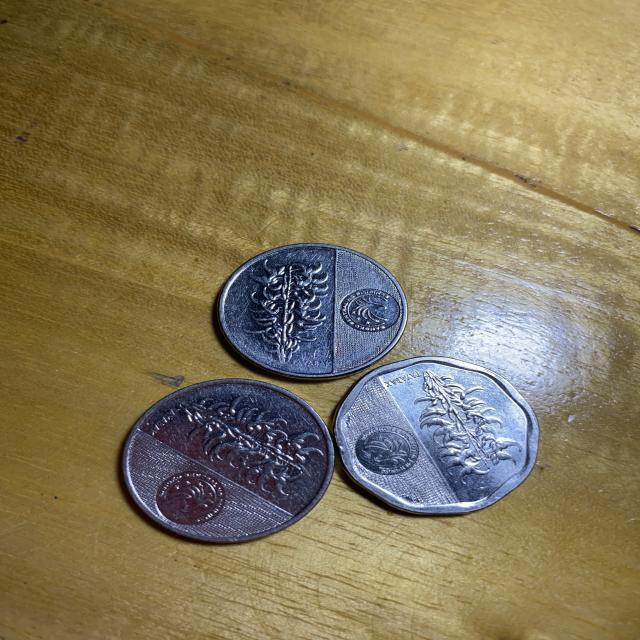5_New_Back: (167, 394, 326, 492), (418, 370, 530, 475), (244, 251, 334, 371)
